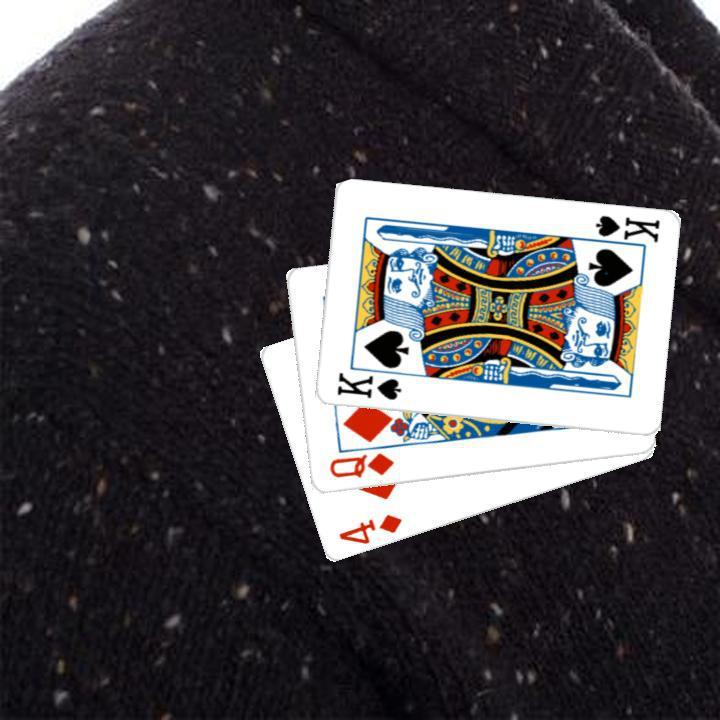4: (334, 510, 404, 547)
K: (583, 211, 661, 251), (331, 369, 403, 403)
Q: (324, 448, 396, 481)
